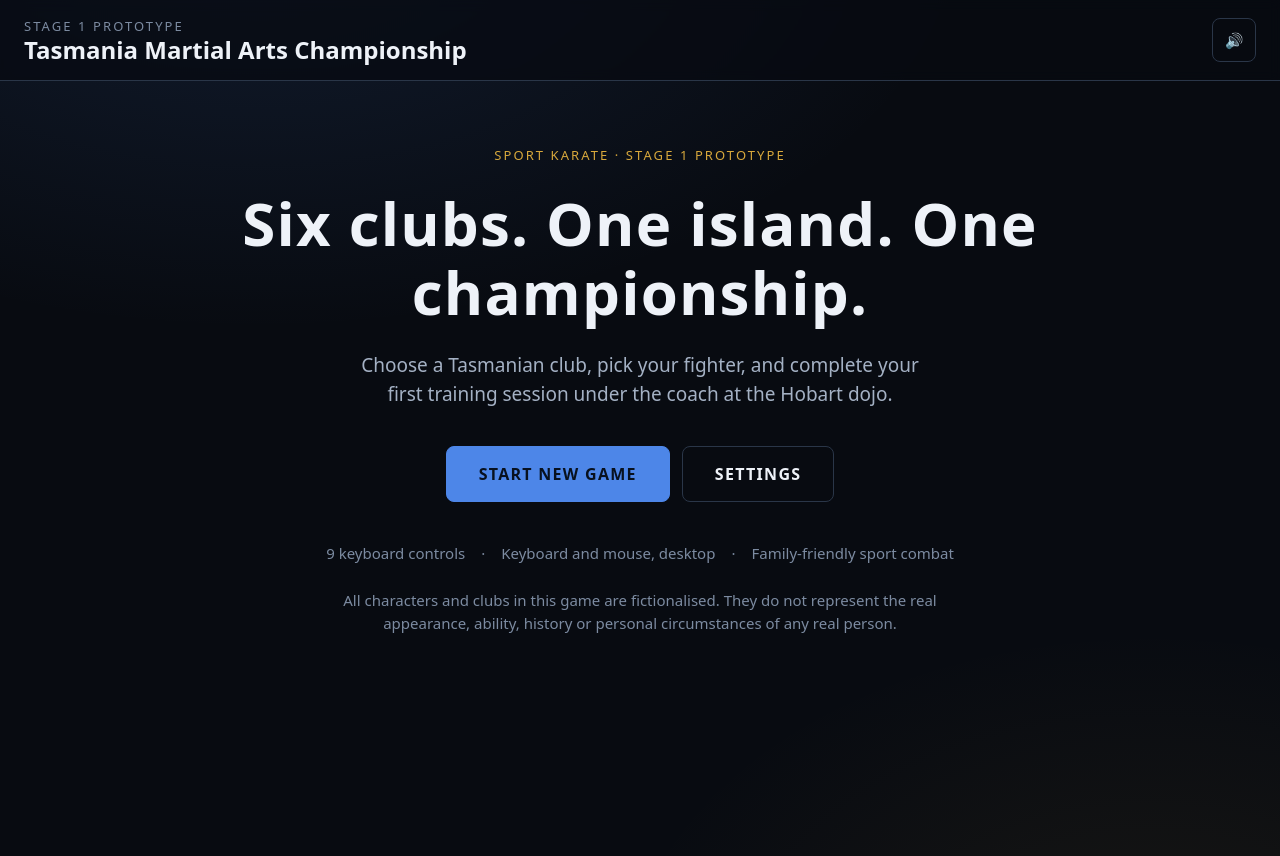
Test: map screen › shows six selectable location markers
What coordinates should you click on to do the following:
click the button with test id "start-game"
I would click on:
 (558, 474)
Its box is [446, 446, 670, 502].
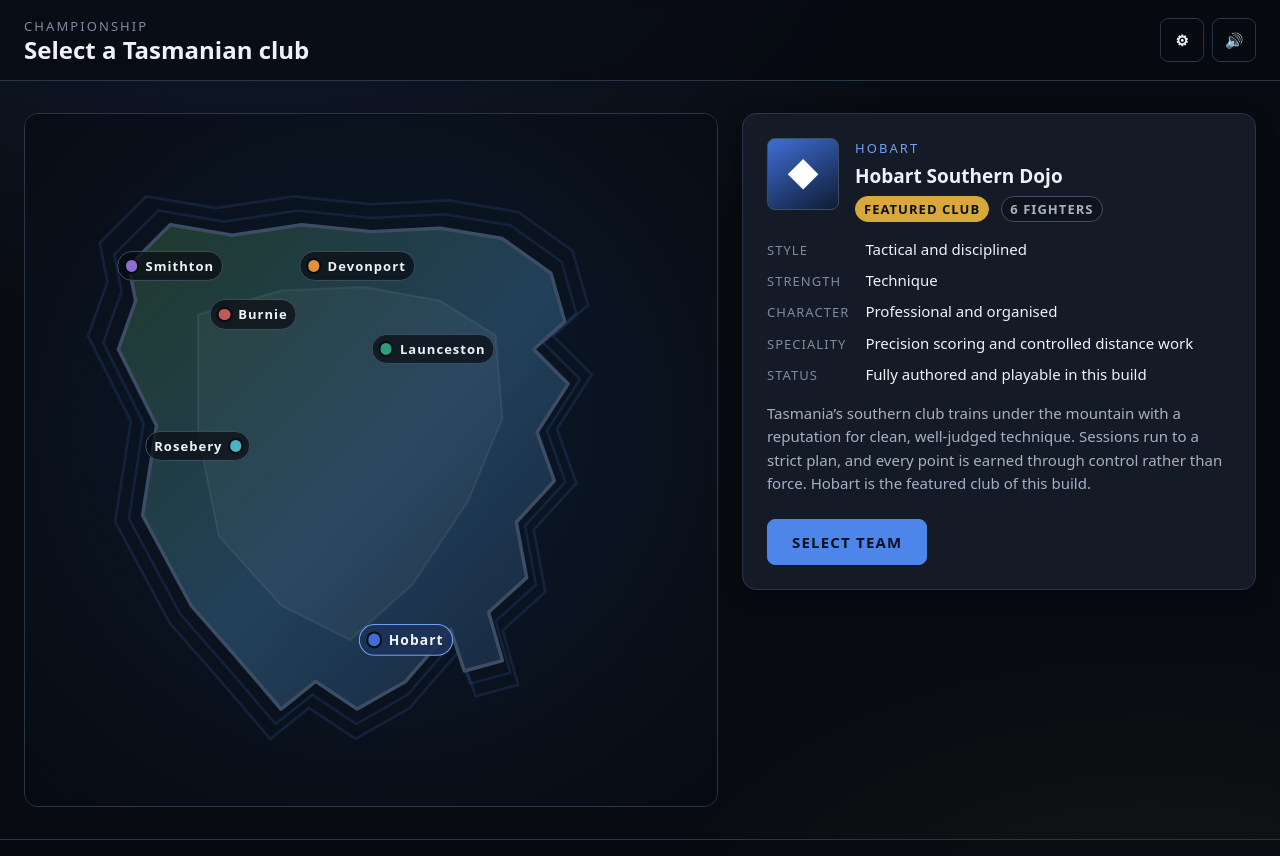
Result: the button with test id "map-marker-smithton" is shown at [117, 251, 223, 281]
Result: the button with test id "map-marker-rosebery" is shown at [145, 431, 251, 461]
